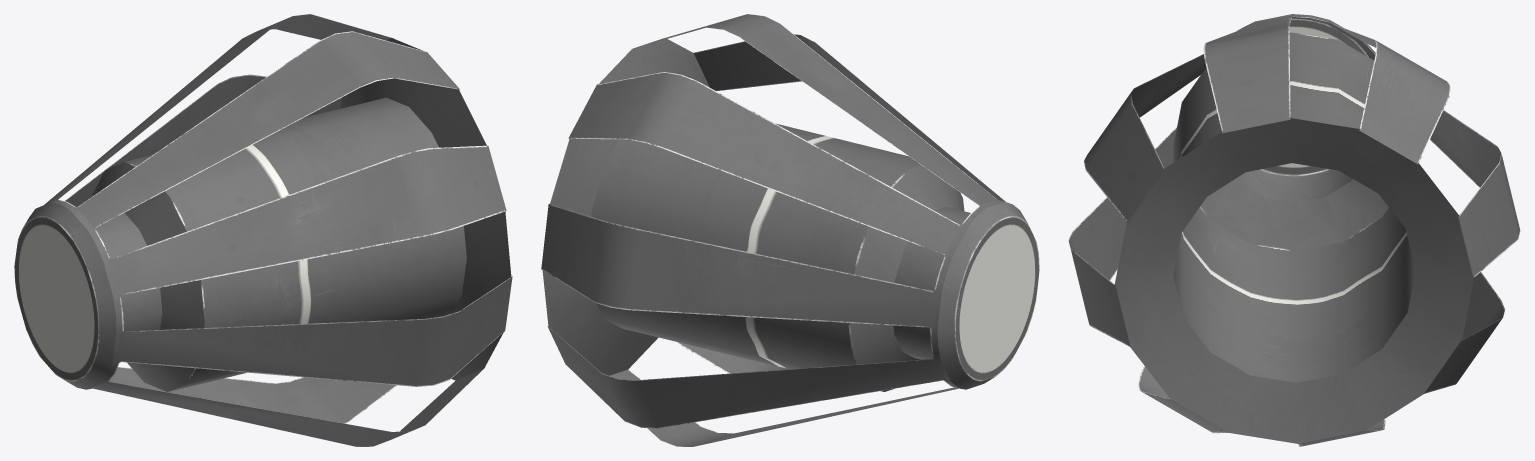
Rendered from pommel_14_c_a.glb.
The picture shows the model from 3 angles, left to right: view 1: azimuth 30°, elevation 25°; view 2: azimuth 150°, elevation 25°; view 3: azimuth 270°, elevation 25°; orthographic projection. The views are drawn at different scales.
Parts seen in each view (by area): view 1: pommel_14_c_a_lod0; view 2: pommel_14_c_a_lod0; view 3: pommel_14_c_a_lod0.
Part boxes in pixels (x1=…): pommel_14_c_a_lod0: x1=14, y1=14, x2=512, y2=446; pommel_14_c_a_lod0: x1=541, y1=14, x2=1039, y2=446; pommel_14_c_a_lod0: x1=1068, y1=14, x2=1520, y2=446.
Size of what is drawn, in the model's own units: 0.0346 by 0.0358 by 0.0358.
Materials: 1 (1 with a texture image).
